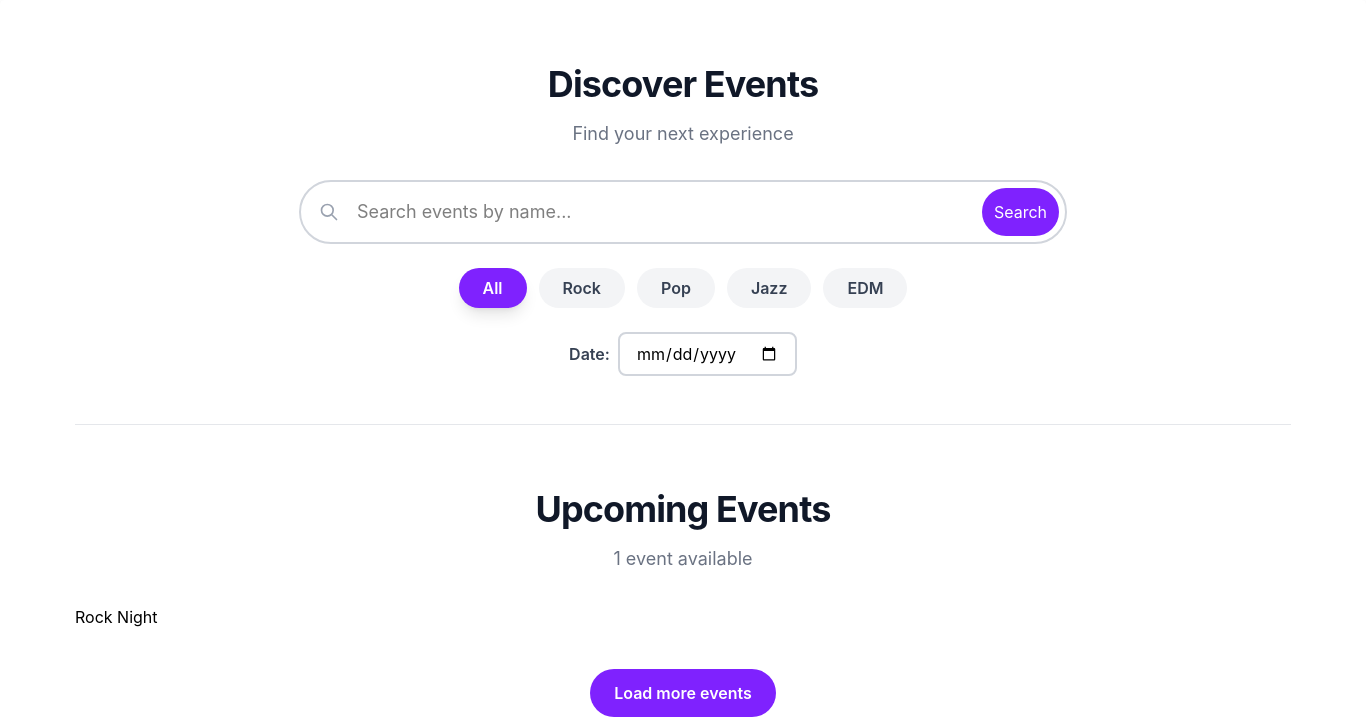
Test case: product-page.vue (event list) › keeps the loaded events and shows an error when the next page fails
What coordinates should you click on to do the following:
click the button "Load more events"
I would click on:
 (683, 693)
Its box is [590,669,776,717].
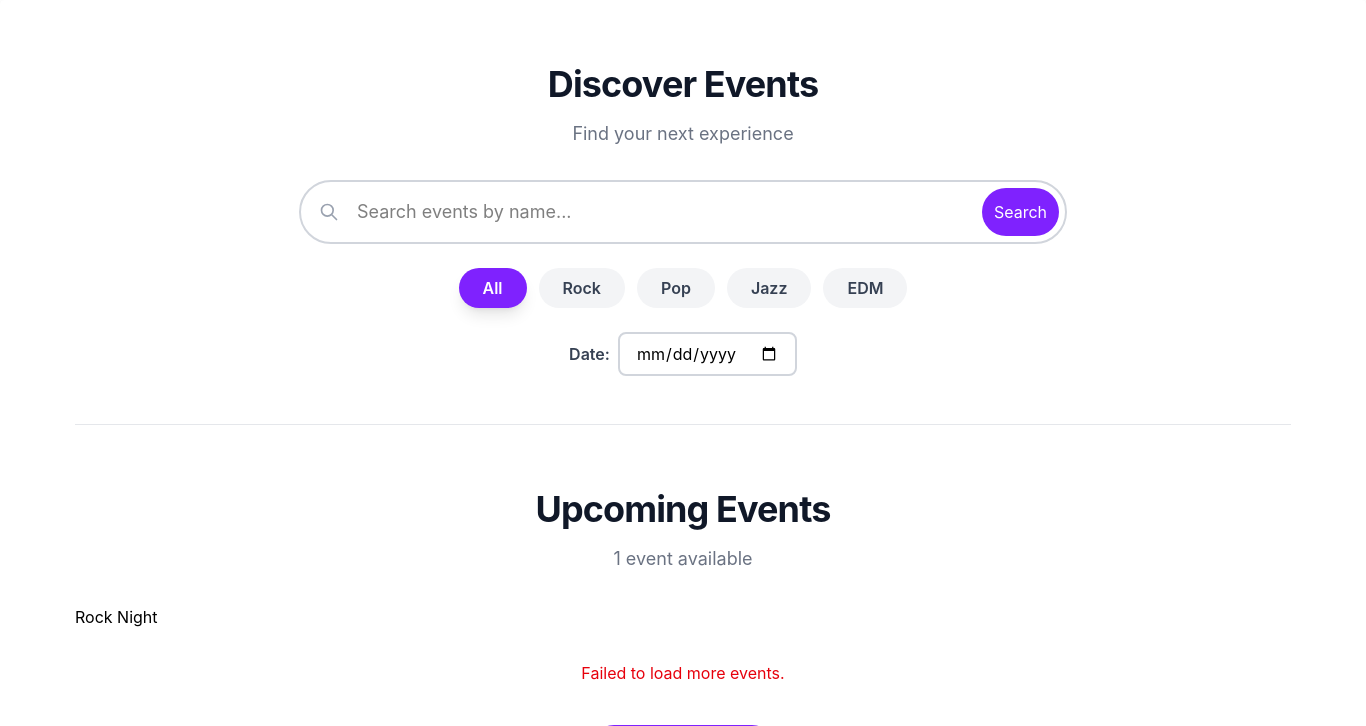
Result: the text "Failed to load more events." is shown at [581,663,785,683]
